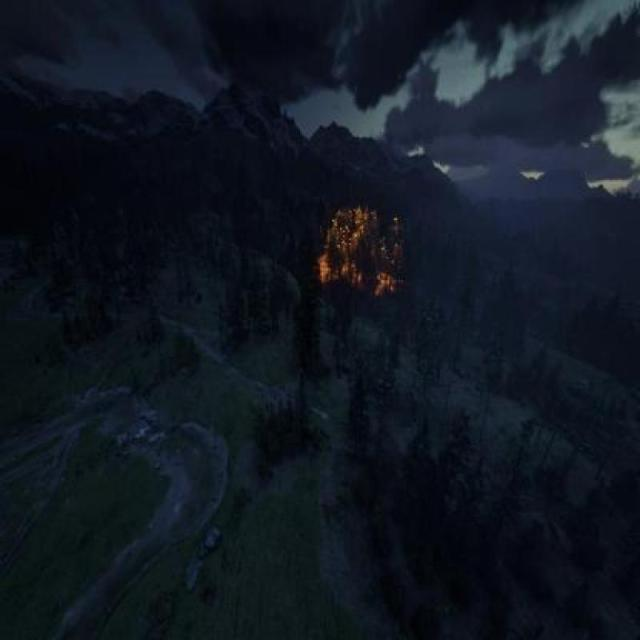Fire: (312, 207, 408, 298)
